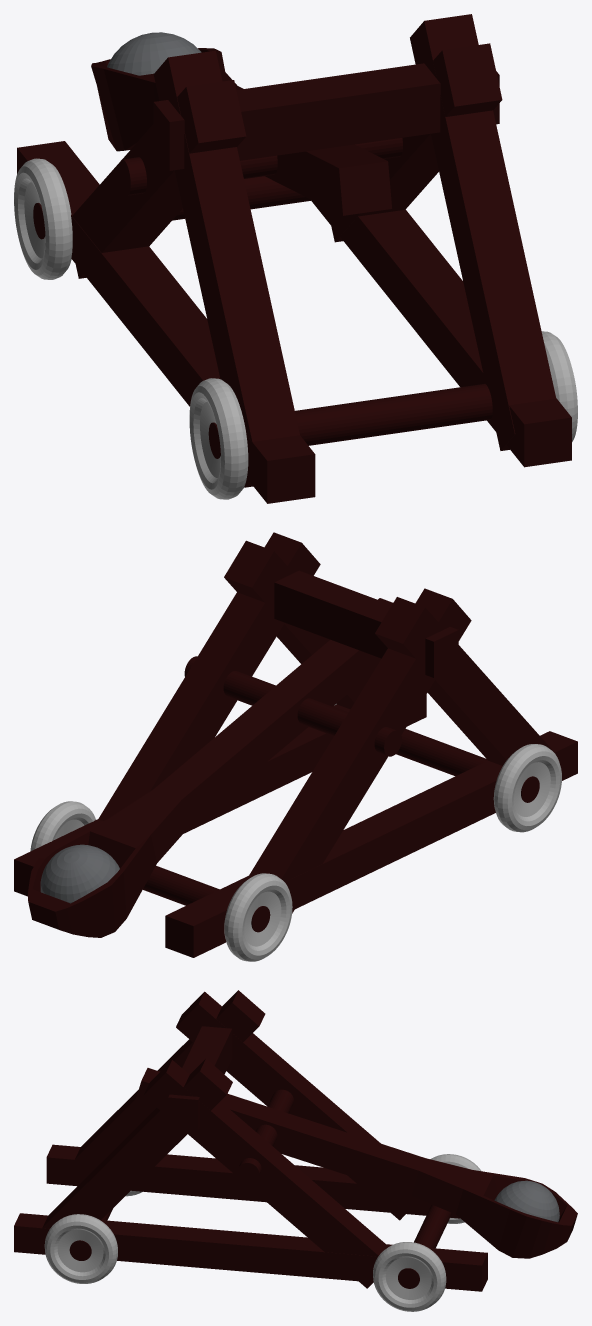
The model's file is ОркКатапульта1.fbx.
3 renders of one model, top to bottom at view 1: azimuth 30°, elevation 25°; view 2: azimuth 150°, elevation 25°; view 3: azimuth 270°, elevation 25°, orthographic. The views are drawn at different scales.
Visible parts, largest first — view 1: Куб.097, Куб.100, Куб.094, Куб.101, Куб.095, Куб.098, Куб.099, Цилиндр.271, Куб.096, Тор.027, Тор.028, Сфера.006 (+3 smaller); view 2: Куб.099, Куб.098, Куб.094, Куб.096, Куб.100, Куб.101, Куб.095, Тор.027, Тор.028, Куб.097, Сфера.006, Цилиндр.273 (+3 smaller); view 3: Куб.099, Куб.095, Куб.096, Куб.098, Куб.097, Куб.094, Куб.100, Тор.025, Тор.024, Куб.101, Сфера.006, Цилиндр.272 (+3 smaller).
Part boxes in pixels (left/top/right/bottom): Куб.097: left=410, top=14, right=556, bottom=450; Куб.100: left=153, top=50, right=299, bottom=487; Куб.094: left=17, top=141, right=315, bottom=503; Куб.101: left=153, top=63, right=499, bottom=170; Куб.095: left=311, top=200, right=571, bottom=467; Куб.098: left=72, top=80, right=246, bottom=278; Куб.099: left=91, top=48, right=391, bottom=215; Цилиндр.271: left=208, top=384, right=492, bottom=458; Куб.096: left=327, top=43, right=502, bottom=242; Тор.027: left=14, top=158, right=72, bottom=279; Тор.028: left=189, top=378, right=248, bottom=499; Сфера.006: left=107, top=32, right=201, bottom=75; Куб.099: left=28, top=598, right=392, bottom=937; Куб.098: left=249, top=588, right=471, bottom=913; Куб.094: left=165, top=731, right=577, bottom=957; Куб.096: left=98, top=532, right=320, bottom=820; Куб.100: left=375, top=597, right=554, bottom=765; Куб.101: left=274, top=570, right=458, bottom=677; Куб.095: left=14, top=694, right=426, bottom=896; Тор.027: left=224, top=873, right=292, bottom=961; Тор.028: left=493, top=744, right=561, bottom=832; Куб.097: left=224, top=540, right=372, bottom=709; Сфера.006: left=40, top=844, right=119, bottom=903; Цилиндр.273: left=184, top=656, right=401, bottom=756; Куб.099: left=134, top=1068, right=577, bottom=1258; Куб.095: left=14, top=1213, right=487, bottom=1291; Куб.096: left=143, top=1060, right=385, bottom=1288; Куб.098: left=176, top=991, right=419, bottom=1220; Куб.097: left=42, top=1059, right=232, bottom=1228; Куб.094: left=46, top=1144, right=460, bottom=1218; Куб.100: left=63, top=990, right=265, bottom=1184; Тор.025: left=373, top=1242, right=446, bottom=1311; Тор.024: left=44, top=1214, right=117, bottom=1283; Куб.101: left=168, top=1026, right=232, bottom=1129; Сфера.006: left=494, top=1180, right=559, bottom=1222; Цилиндр.272: left=398, top=1205, right=452, bottom=1288.
Size of the model in its own units: 99.28 by 78.91 by 185.
